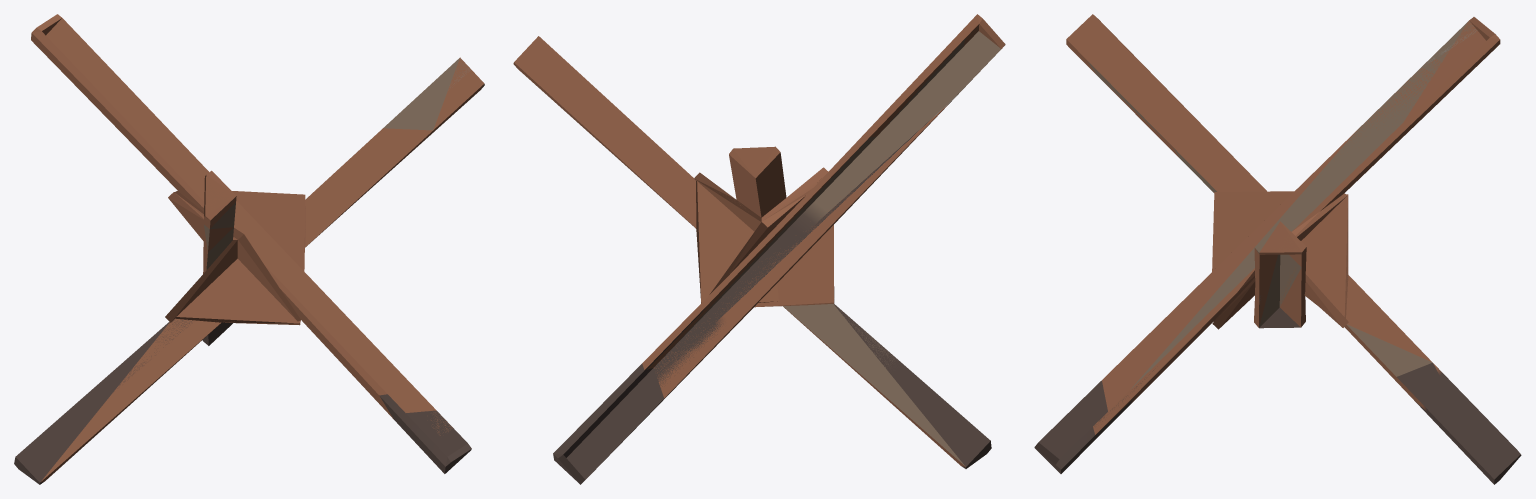
File: model_antitank_trap_old.fbx
3 views of the same model, side by side, from view 1: azimuth 30°, elevation 25°; view 2: azimuth 150°, elevation 25°; view 3: azimuth 270°, elevation 25° (orthographic).
Parts seen in each view (by area): view 1: model_antitank_trap_old, model_antitank_trap_old_col; view 2: model_antitank_trap_old, model_antitank_trap_old_col; view 3: model_antitank_trap_old, model_antitank_trap_old_col.
Part boxes in pixels (x1,y1,x2,y2): model_antitank_trap_old: [14, 14, 484, 484]; model_antitank_trap_old_col: [19, 16, 482, 483]; model_antitank_trap_old: [513, 14, 1005, 484]; model_antitank_trap_old_col: [515, 15, 1002, 482]; model_antitank_trap_old: [1034, 15, 1521, 484]; model_antitank_trap_old_col: [1037, 14, 1519, 484].
Bounding box in the file's own units: 248 × 191 × 224.
Materials: 1 (1 with a texture image).
